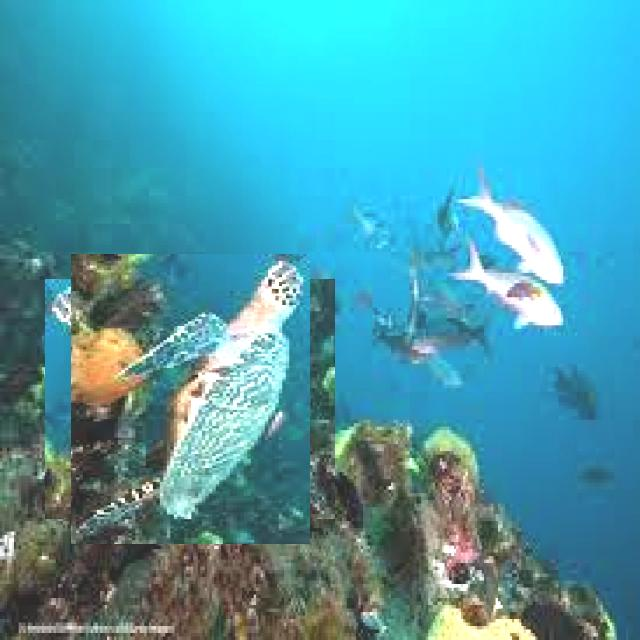Sea turtle: (57, 266, 323, 532)
